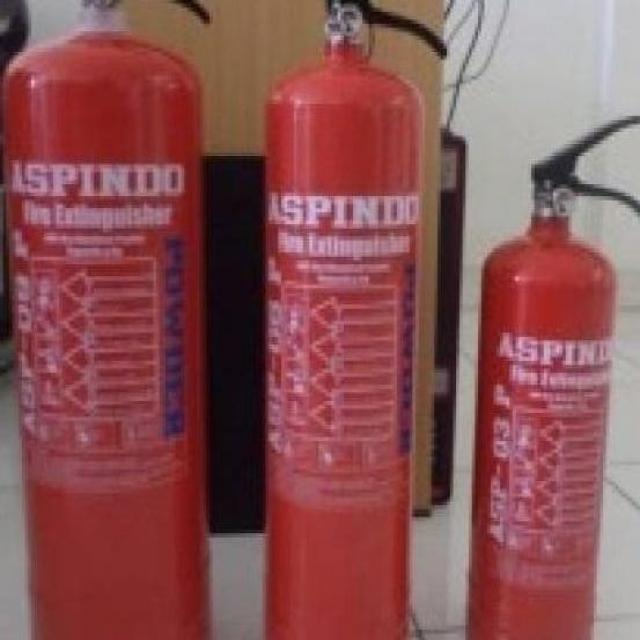fire_extinguisher: (0, 0, 211, 639), (250, 0, 450, 639), (457, 106, 639, 638)
